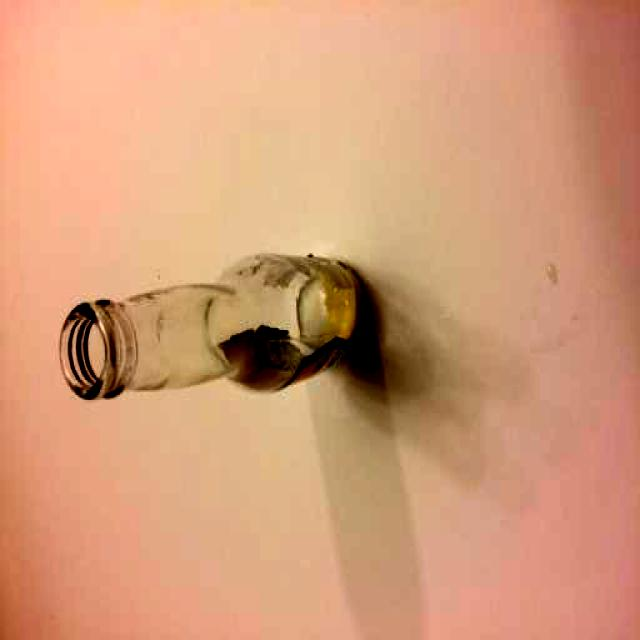Glass: (56, 250, 371, 406)
